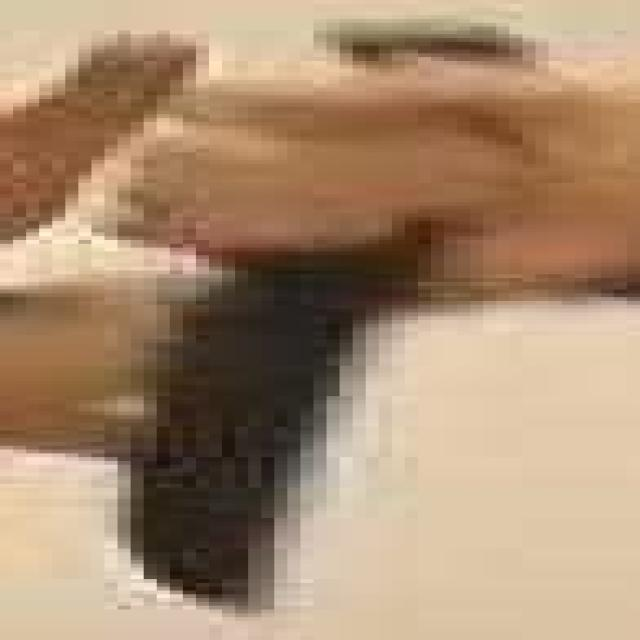Knife: (123, 12, 564, 631)
